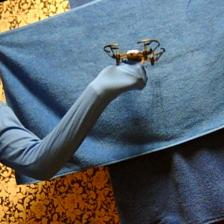drone: (104, 37, 166, 70)
